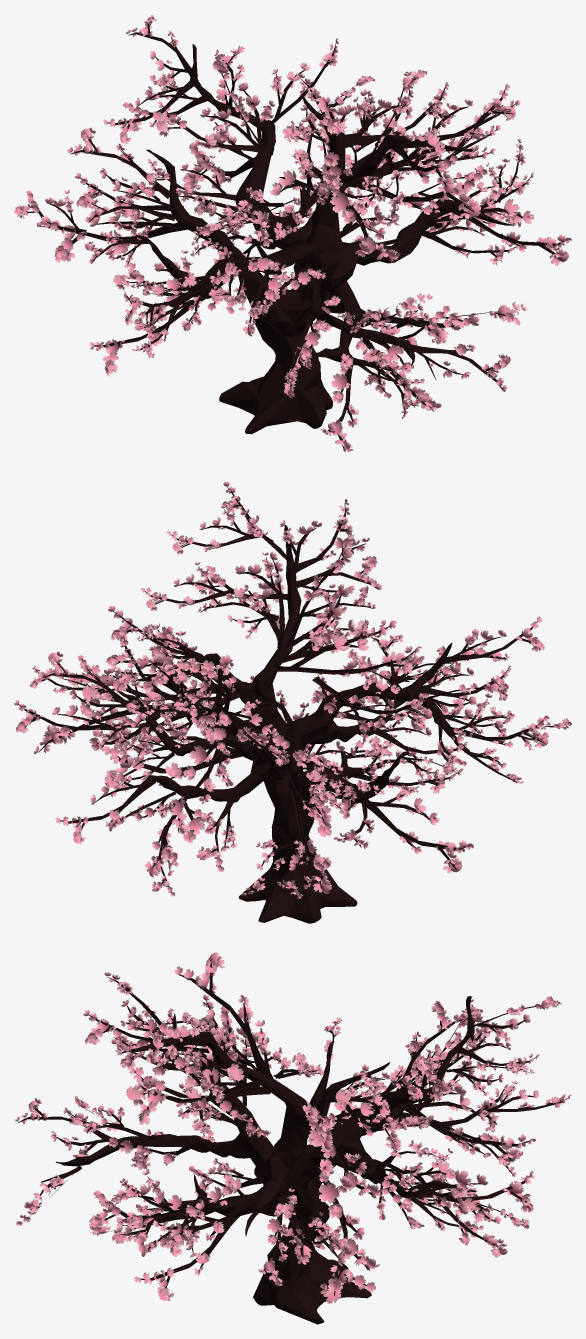
Rendered from SM_Sakura.FBX.
3 views of the same model, one above another, from view 1: azimuth 30°, elevation 25°; view 2: azimuth 150°, elevation 25°; view 3: azimuth 270°, elevation 25° (orthographic). The views are drawn at different scales.
Parts seen in each view (by area): view 1: Object073, SM_Branch, SM_SakuraBranch003; view 2: Object073, SM_Branch, SM_SakuraBranch003; view 3: Object073, SM_Branch, SM_SakuraBranch003.
Part boxes in pixels (x1=…): Object073: x1=14, y1=15, x2=571, y2=452; SM_Branch: x1=167, y1=63, x2=473, y2=434; SM_SakuraBranch003: x1=135, y1=44, x2=513, y2=368; Object073: x1=14, y1=481, x2=571, y2=899; SM_Branch: x1=145, y1=525, x2=449, y2=923; SM_SakuraBranch003: x1=118, y1=544, x2=470, y2=800; Object073: x1=14, y1=952, x2=571, y2=1303; SM_Branch: x1=56, y1=1015, x2=474, y2=1324; SM_SakuraBranch003: x1=101, y1=996, x2=477, y2=1236.
Bounding box in the file's own units: 422 × 299 × 439.
